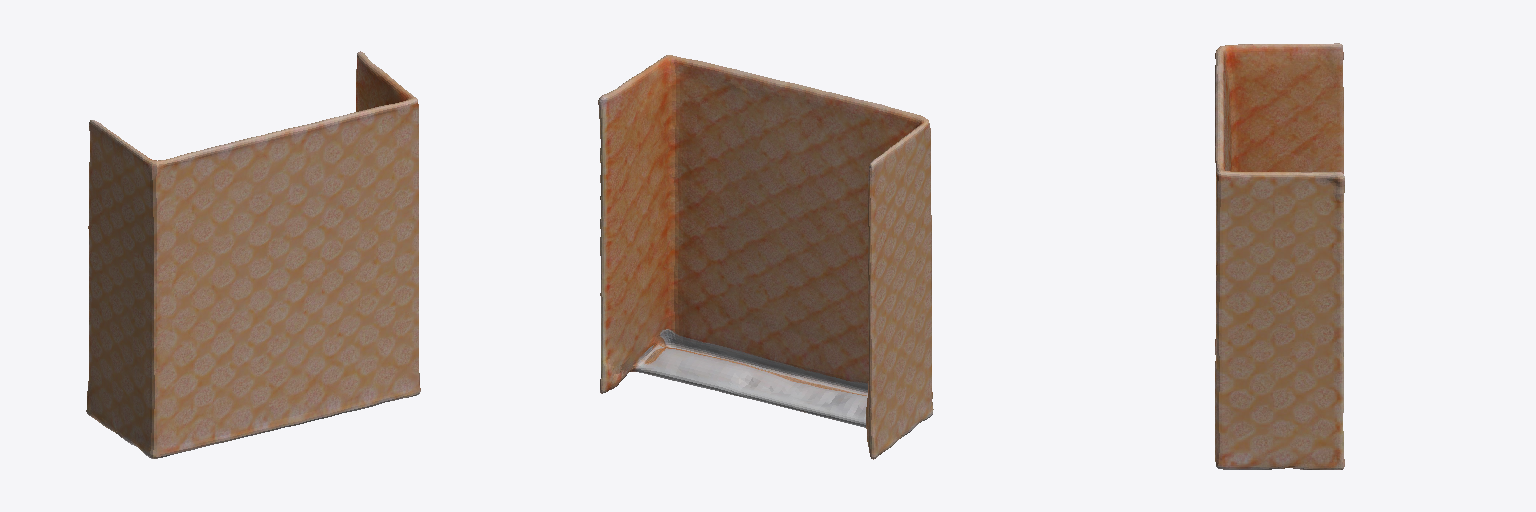
The picture shows the model from 3 angles: view 1: azimuth 30°, elevation 25°; view 2: azimuth 150°, elevation 25°; view 3: azimuth 270°, elevation 25°; orthographic projection.
Parts seen in each view (by area): view 1: mesh; view 2: mesh; view 3: mesh.
Boxes of the visible parts, box(x1,y1,x2,y2) form: mesh: box(86, 51, 420, 458); mesh: box(598, 55, 933, 459); mesh: box(1215, 43, 1344, 469).
Size of the model in its own units: 0.9712 by 0.9979 by 0.3941.
1 materials, 1 textured.